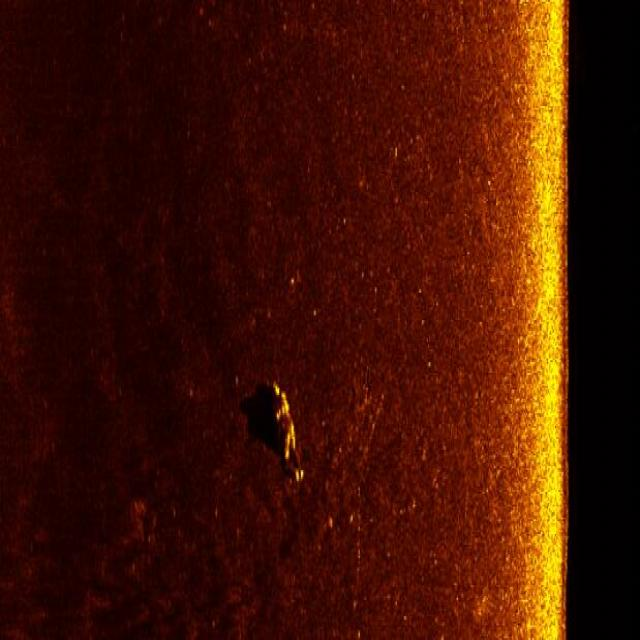other: (261, 375, 308, 484)
